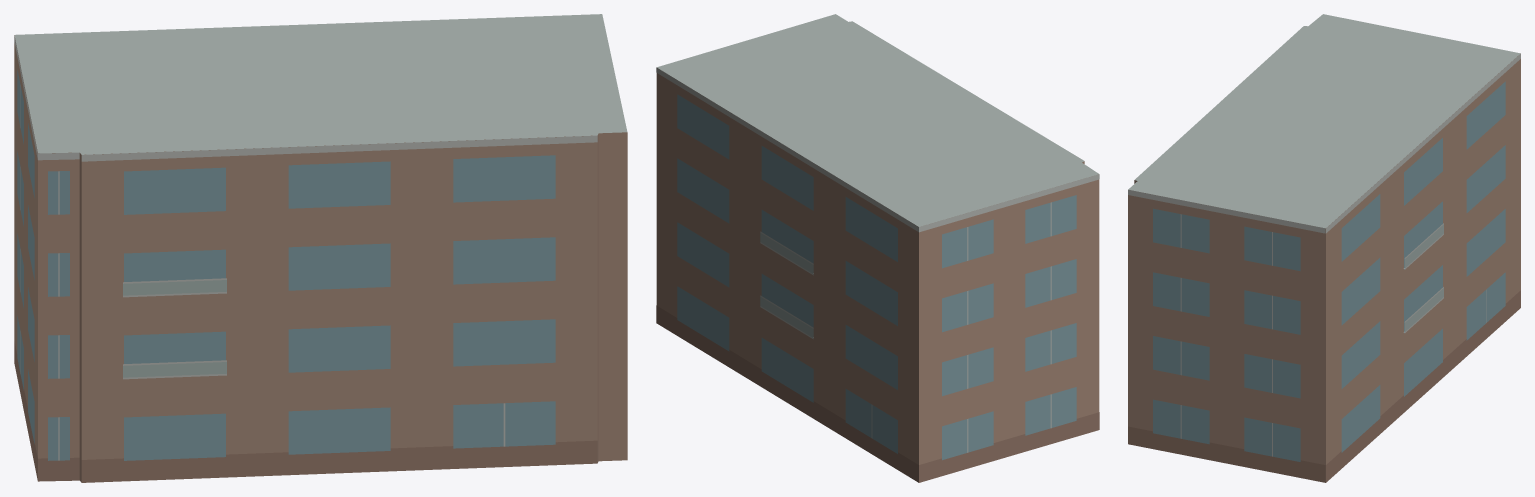
File: survey-upis-32526904.glb
3 renders of one model, left to right at view 1: azimuth 30°, elevation 25°; view 2: azimuth 150°, elevation 25°; view 3: azimuth 270°, elevation 25°, orthographic. The views are drawn at different scales.
Visible parts, largest first — view 1: survey-upis-32526904.tmp; view 2: survey-upis-32526904.tmp; view 3: survey-upis-32526904.tmp.
Boxes of the visible parts, x1=… form: survey-upis-32526904.tmp: x1=14, y1=14, x2=627, y2=482; survey-upis-32526904.tmp: x1=656, y1=14, x2=1099, y2=482; survey-upis-32526904.tmp: x1=1128, y1=14, x2=1520, y2=482.
Size of the model in its own units: 21.14 by 11.7 by 16.37.
